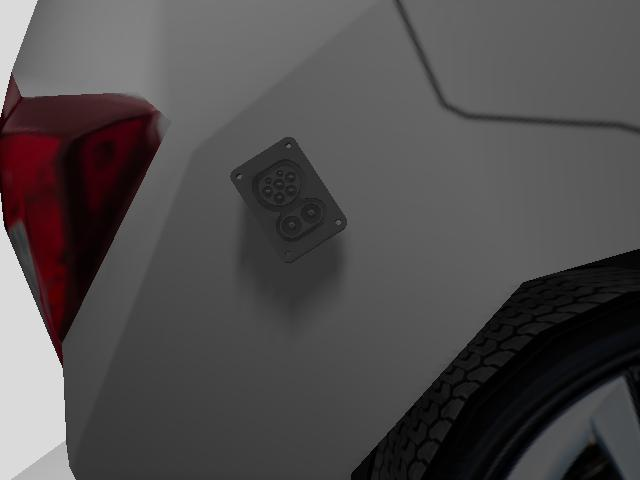EV-socket: (231, 137, 345, 262)
